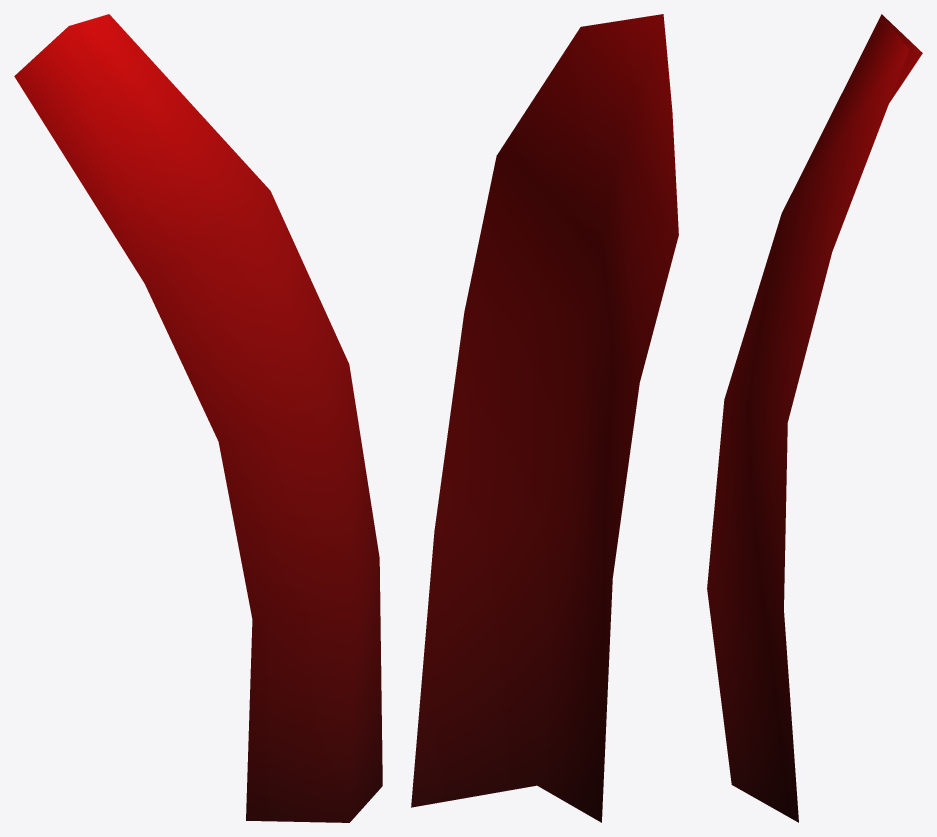
The picture shows the model from 3 angles, left to right: view 1: azimuth 30°, elevation 25°; view 2: azimuth 150°, elevation 25°; view 3: azimuth 270°, elevation 25°; orthographic projection. The views are drawn at different scales.
Visible parts, largest first — view 1: Caulerpa_Taxifolia_Baked.008; view 2: Caulerpa_Taxifolia_Baked.008; view 3: Caulerpa_Taxifolia_Baked.008.
Boxes of the visible parts, box(x1,y1,x2,y2) form: Caulerpa_Taxifolia_Baked.008: box(14, 14, 382, 822); Caulerpa_Taxifolia_Baked.008: box(411, 14, 678, 822); Caulerpa_Taxifolia_Baked.008: box(707, 14, 922, 822).
Bounding box in the file's own units: 0.0398 × 0.1008 × 0.0284.
